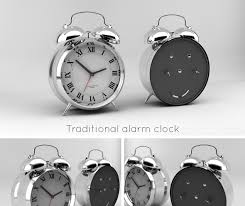alarm_clock: (123, 13, 230, 204), (142, 13, 230, 204), (142, 13, 212, 204), (142, 13, 212, 107)
